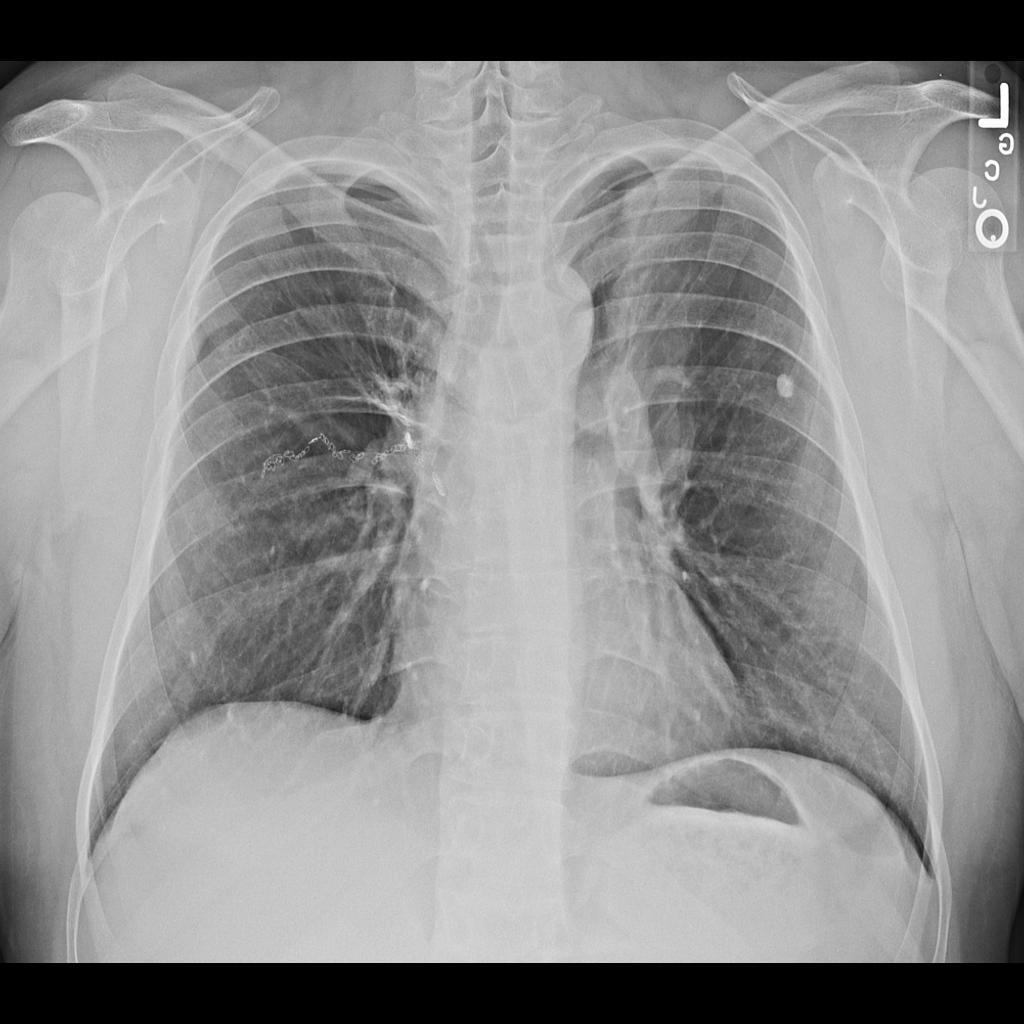Nodule: (763, 357, 803, 406)
